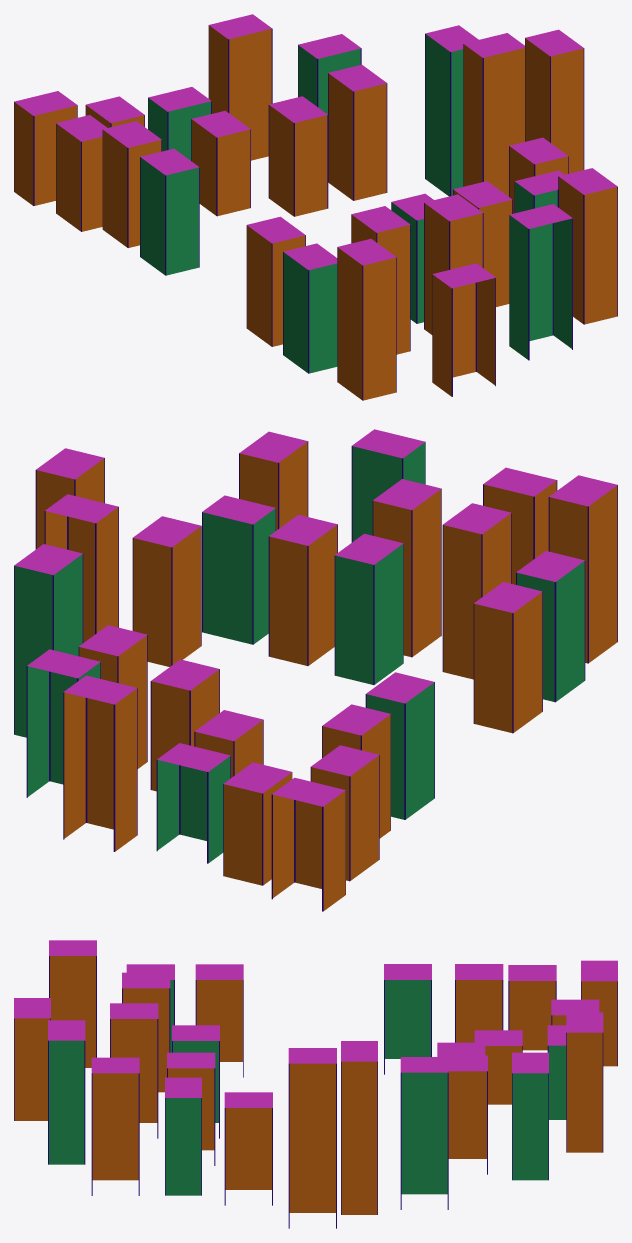
File: Building_Generic_05.FBX
3 views of the same model, one above another, from view 1: azimuth 30°, elevation 25°; view 2: azimuth 150°, elevation 25°; view 3: azimuth 270°, elevation 25° (orthographic). The views are drawn at different scales.
Parts seen in each view (by area): view 1: Building_Generic_05; view 2: Building_Generic_05; view 3: Building_Generic_05.
Part boxes in pixels (left/top/right/bottom): Building_Generic_05: left=14, top=14, right=617, bottom=400; Building_Generic_05: left=14, top=429, right=617, bottom=911; Building_Generic_05: left=14, top=940, right=617, bottom=1228.
Bounding box in the file's own units: 14413 × 6070 × 20147.
